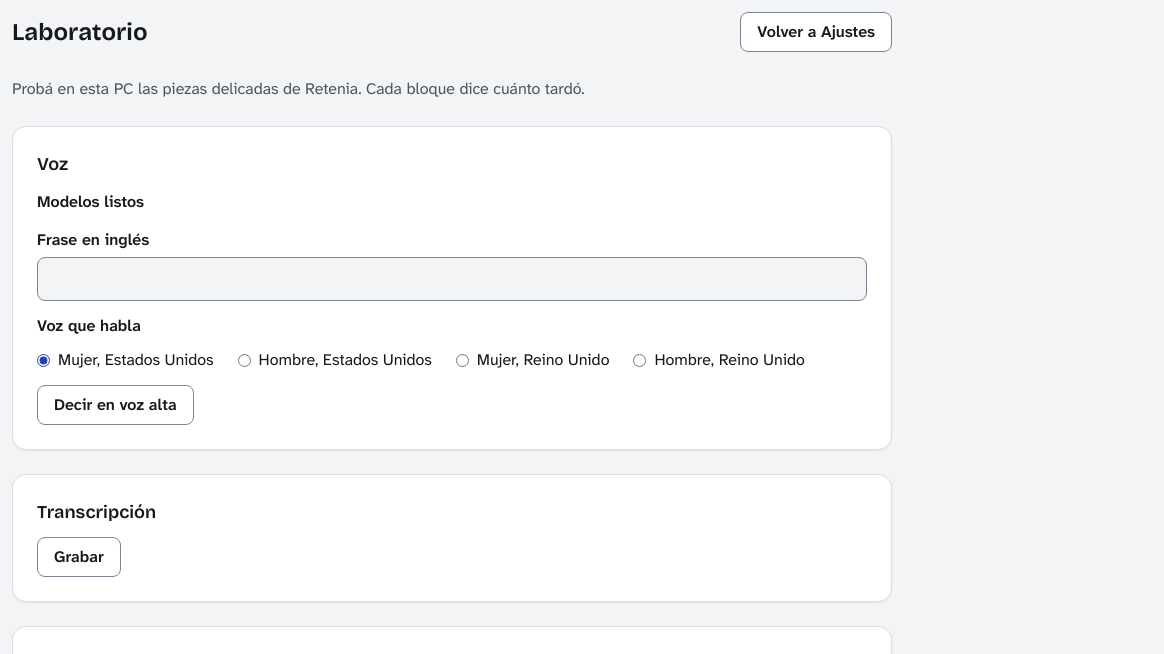
Test: Laboratorio › [CA-026] si la grabación llega a pasarse de 30 segundos, se manda solo lo que entra (simulado)
The width and height of the screenshot is (1164, 654).
Click the button "Grabar". click: [79, 557]
box: [37, 537, 121, 577]
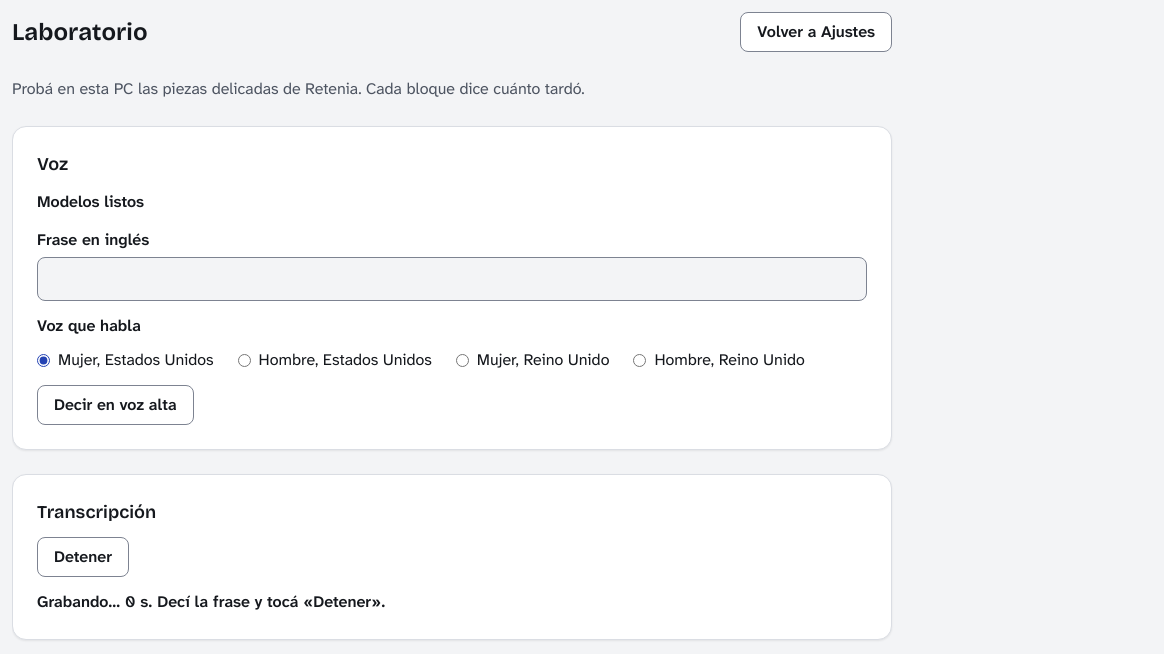
Click the button "Detener". click: [83, 557]
box: [37, 537, 129, 577]
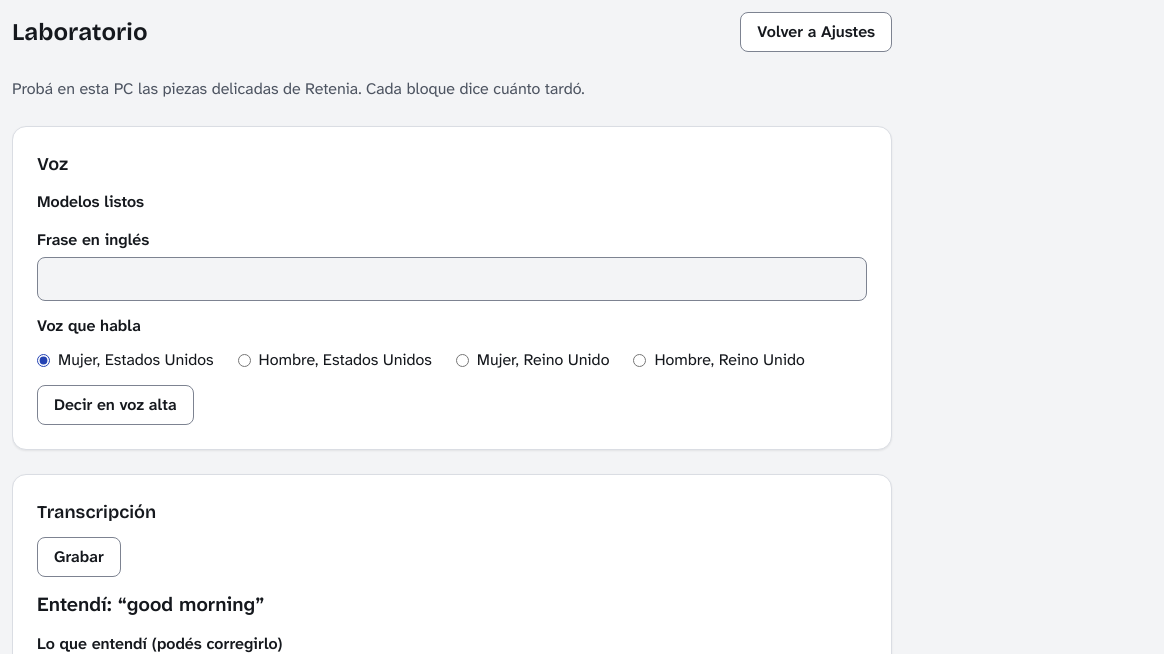
Expected: the text "Entendí: “good morning”" is shown, [37, 591, 264, 617]
